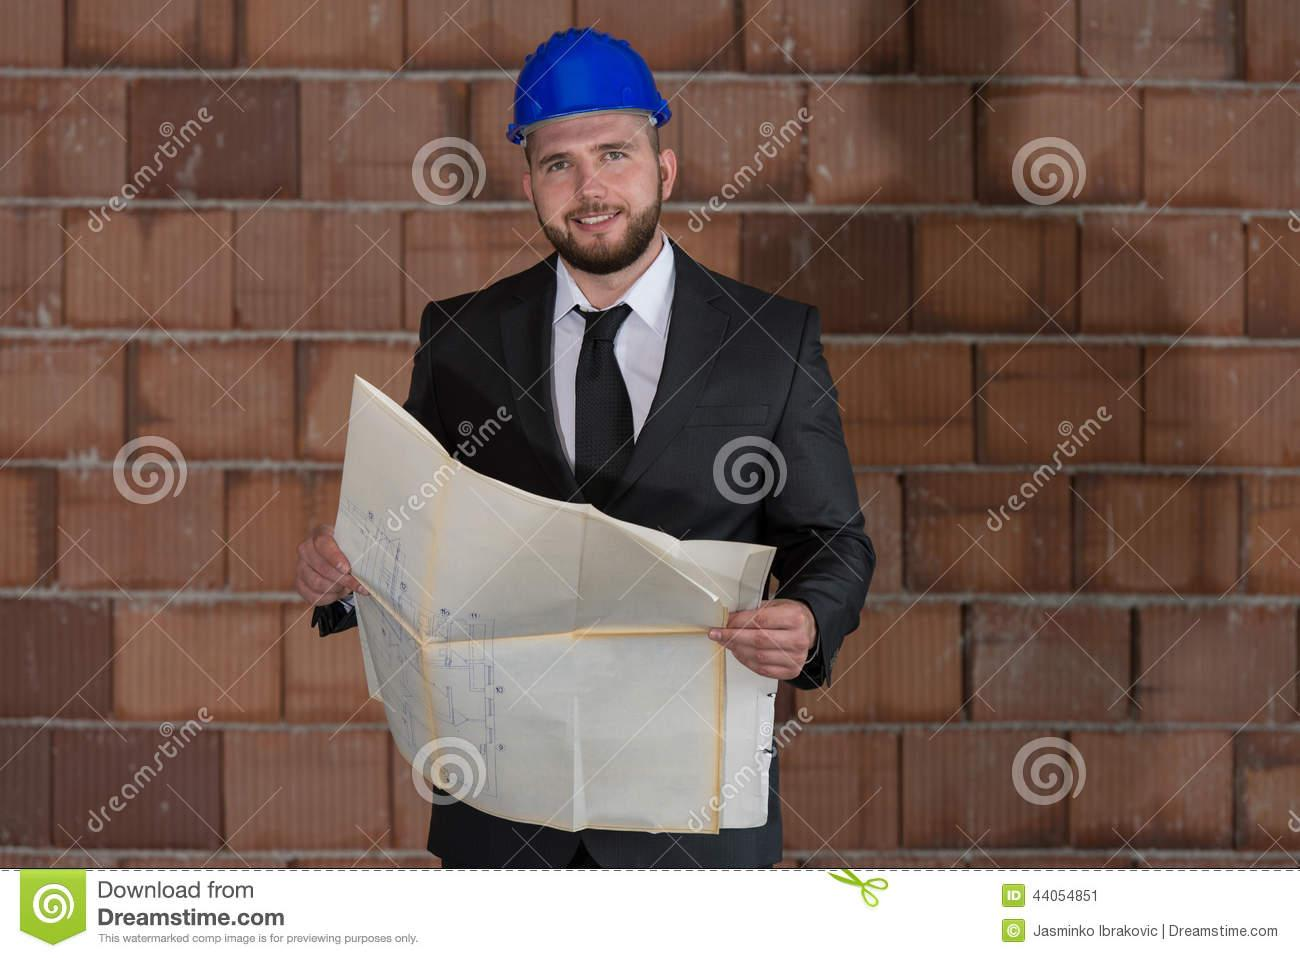helmet: (501, 23, 672, 145)
